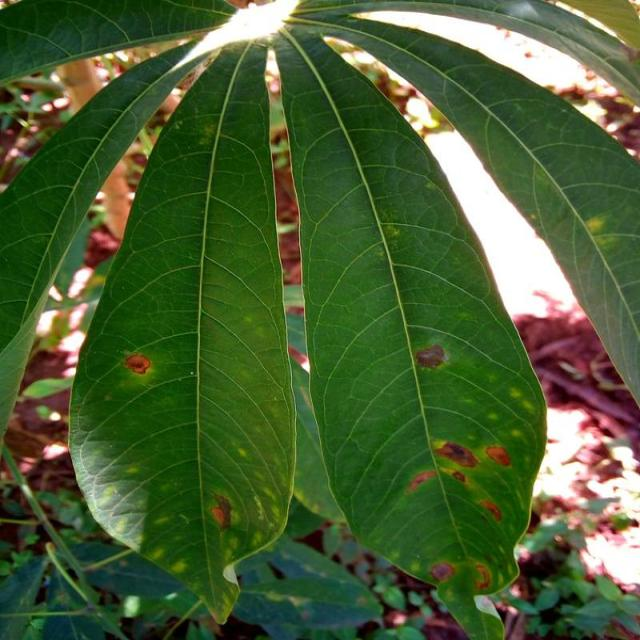cassava leaf: (272, 19, 549, 637), (66, 35, 298, 624)
